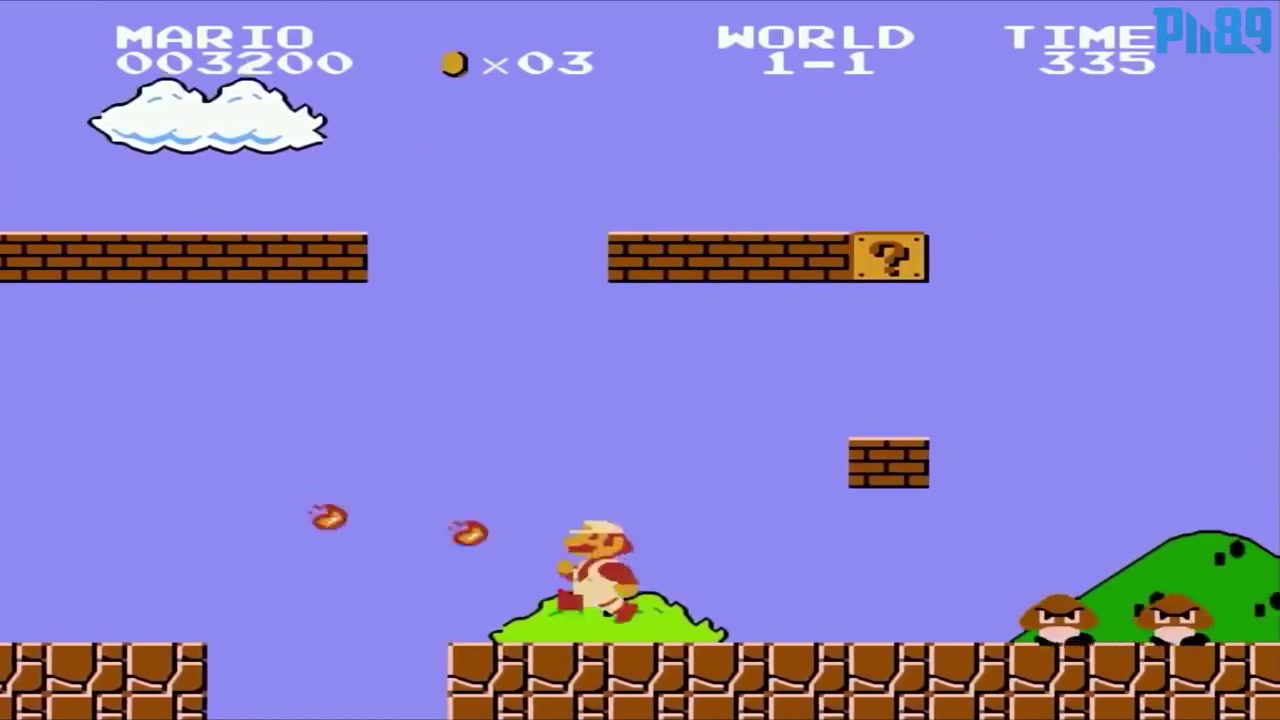mario: (540, 514, 644, 624)
